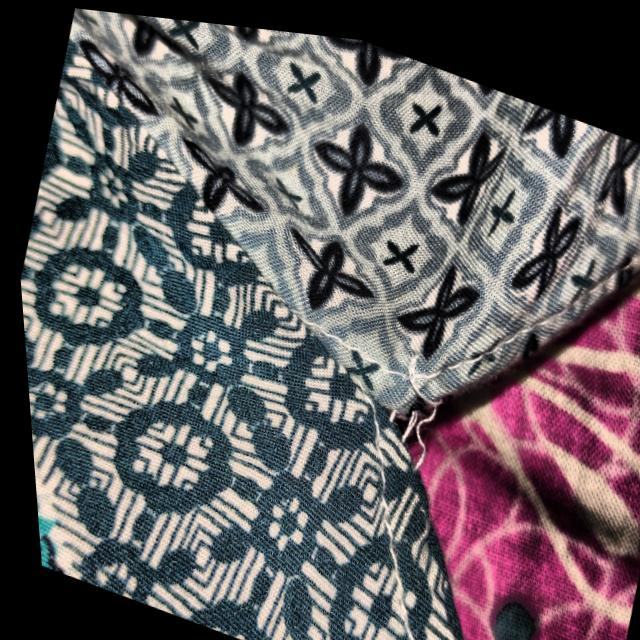Stitch: (340, 312, 465, 535)
